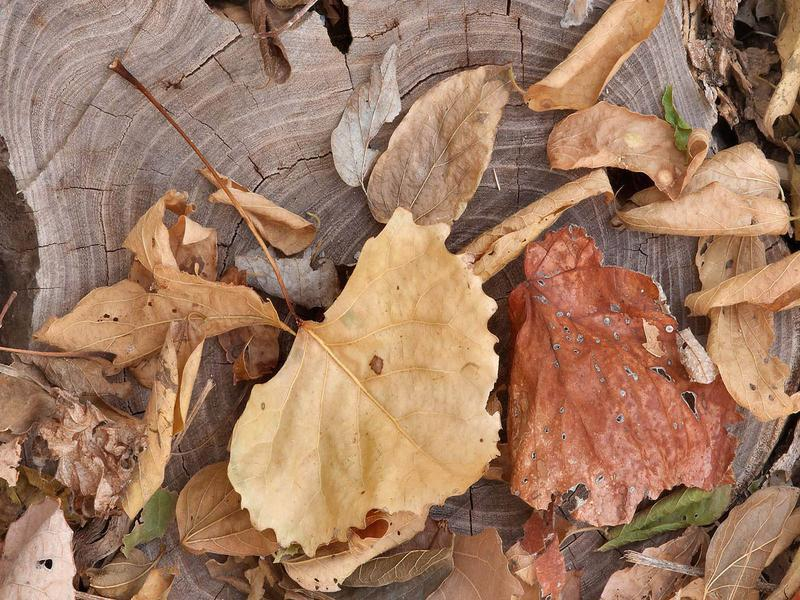leaf: (223, 202, 507, 561), (490, 217, 751, 533), (362, 44, 518, 235), (29, 272, 298, 364), (518, 1, 677, 119), (541, 98, 711, 205), (699, 481, 800, 600), (588, 485, 734, 555)
